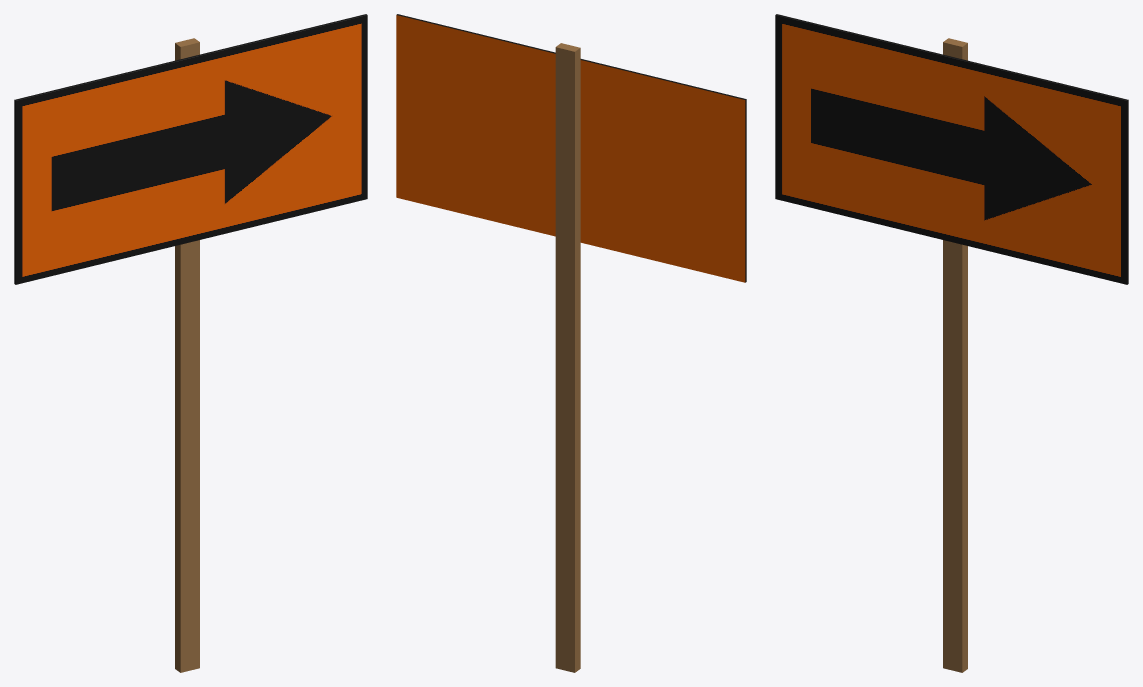
The model's file is arrow1_r.dae.
3 renders of one model, left to right at view 1: azimuth 30°, elevation 25°; view 2: azimuth 150°, elevation 25°; view 3: azimuth 330°, elevation 25°, orthographic.
Parts seen in each view (by area): view 1: marker; view 2: marker; view 3: marker.
Part boxes in pixels (x1,y1,x2,y2): marker: [14, 14, 367, 672]; marker: [396, 14, 746, 672]; marker: [775, 14, 1128, 672].
Bounding box in the file's own units: 0.9 × 0.031 × 1.53.
Materials: 1 (1 with a texture image).
